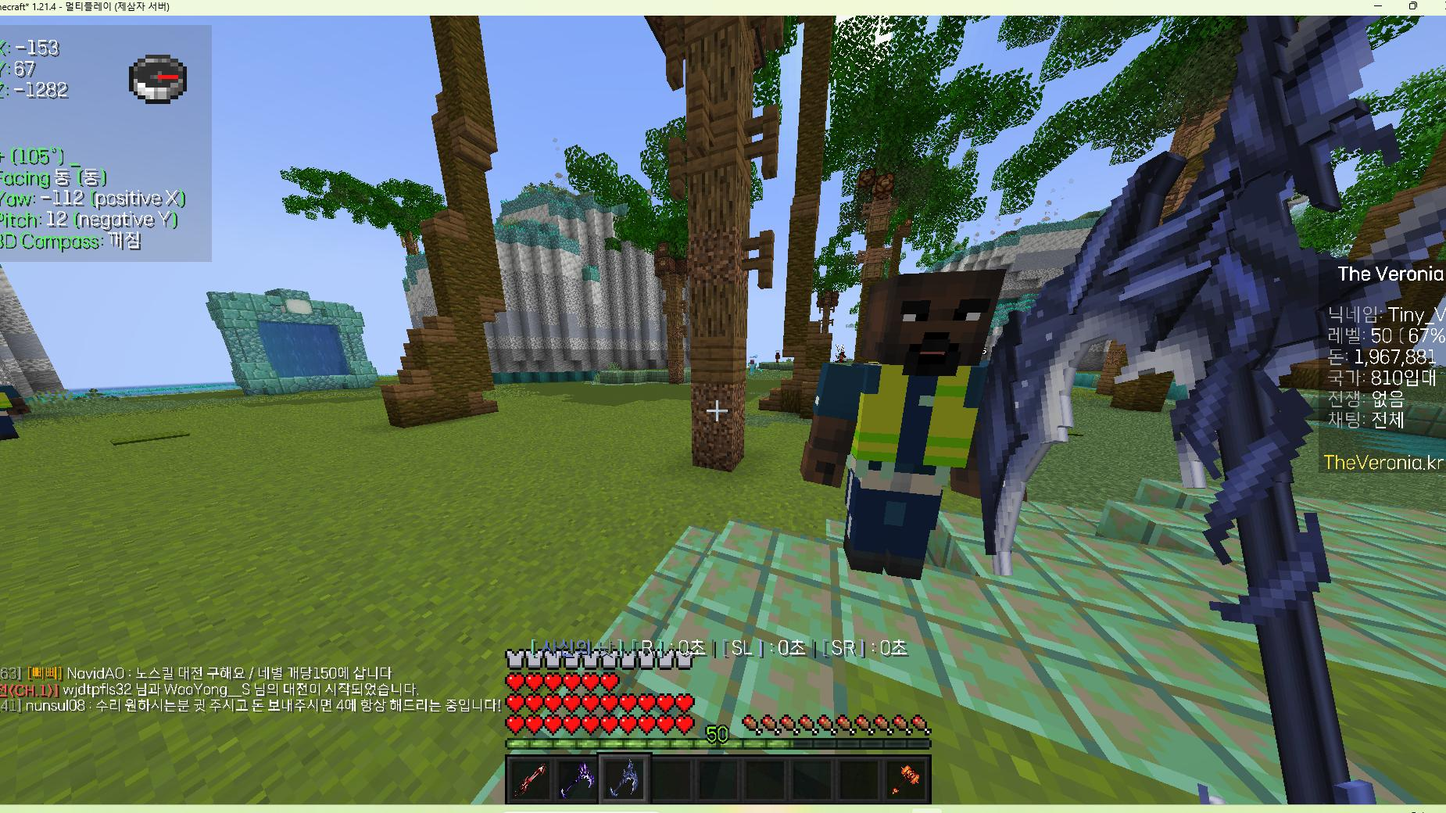Guardian: (800, 271, 1004, 577)
